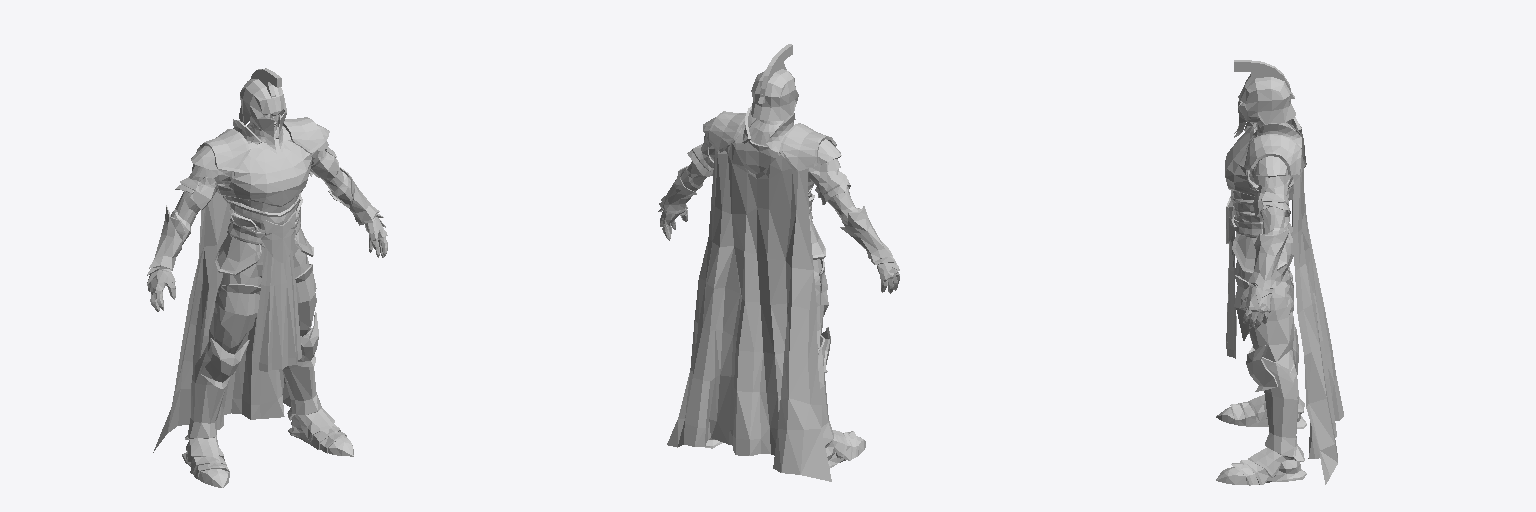
The model's file is warrior final textures.obj.
3 renders of one model, left to right at view 1: azimuth 30°, elevation 25°; view 2: azimuth 150°, elevation 25°; view 3: azimuth 270°, elevation 25°, orthographic.
Parts seen in each view (by area): view 1: warrior:Mesh; view 2: warrior:Mesh; view 3: warrior:Mesh.
Boxes of the visible parts, box(x1,y1,x2,y2) form: warrior:Mesh: box(147, 68, 387, 487); warrior:Mesh: box(658, 44, 899, 481); warrior:Mesh: box(1216, 60, 1343, 485).
Size of the model in its own units: 2.15 by 3.33 by 1.